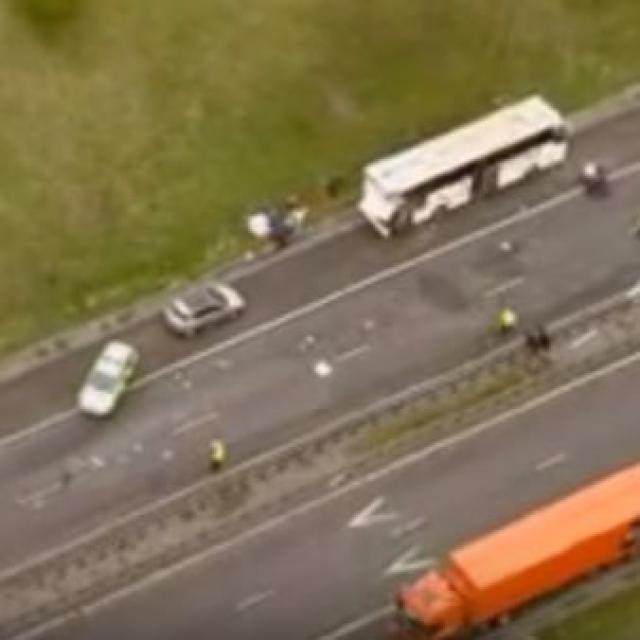traffic_incident: (358, 83, 566, 244)
